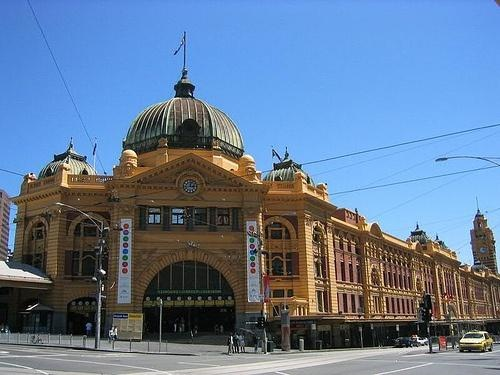car: (458, 333, 494, 353)
